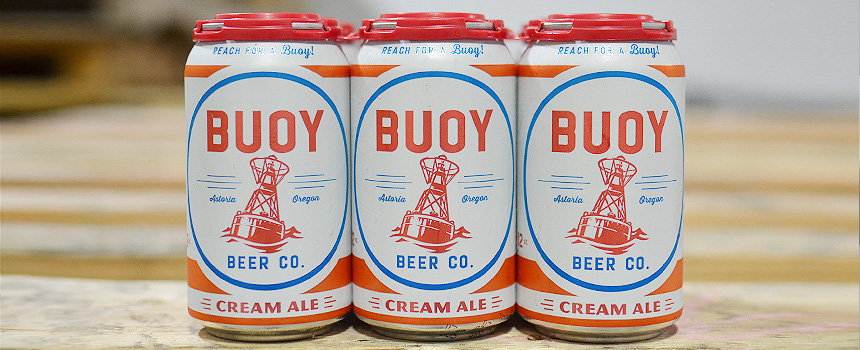beer can: (513, 14, 688, 344), (182, 12, 355, 340), (353, 12, 524, 337)
